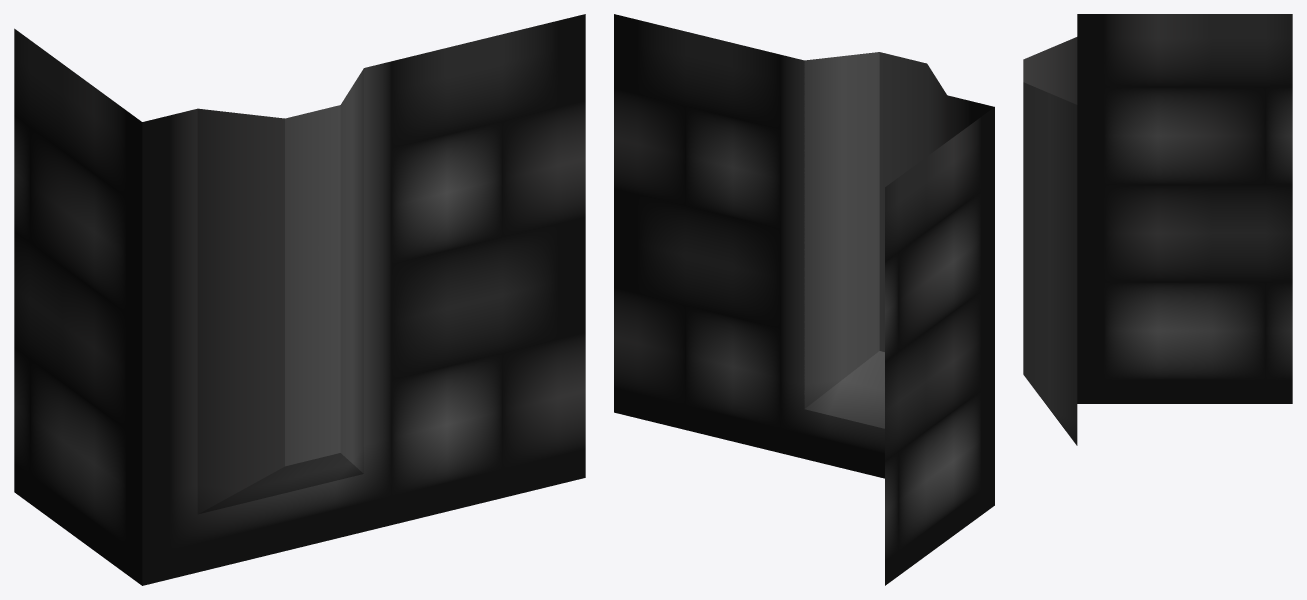
File: door_frame_right.obj
3 views of the same model, side by side, from view 1: azimuth 30°, elevation 25°; view 2: azimuth 150°, elevation 25°; view 3: azimuth 270°, elevation 25° (orthographic). The views are drawn at different scales.
Visible parts, largest first — view 1: Default; view 2: Default; view 3: Default.
Part boxes in pixels (x1,y1,x2,y2): Default: (14,14,585,585); Default: (614,14,994,585); Default: (1023,14,1292,445).
Size of the model in its own units: 1 by 1 by 0.625.
